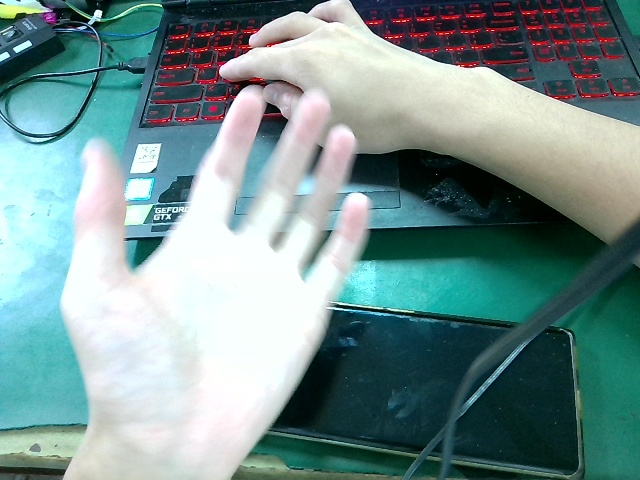paper: (73, 90, 374, 466)
